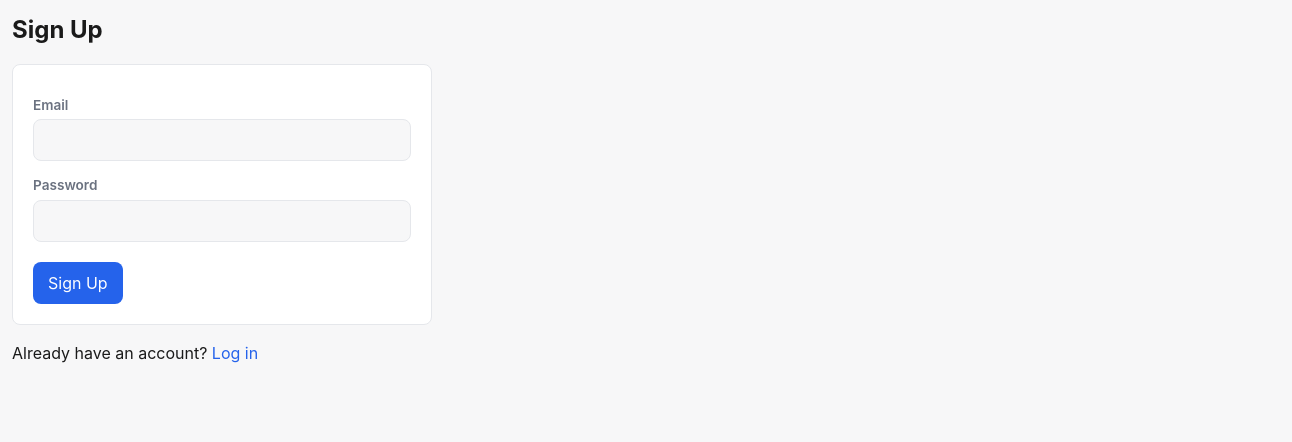
Test: Signup › shows the server error message on a rejected signup
Type "new@example.com" into the field labelled "Email" at (222, 140), box [33,119,411,161]
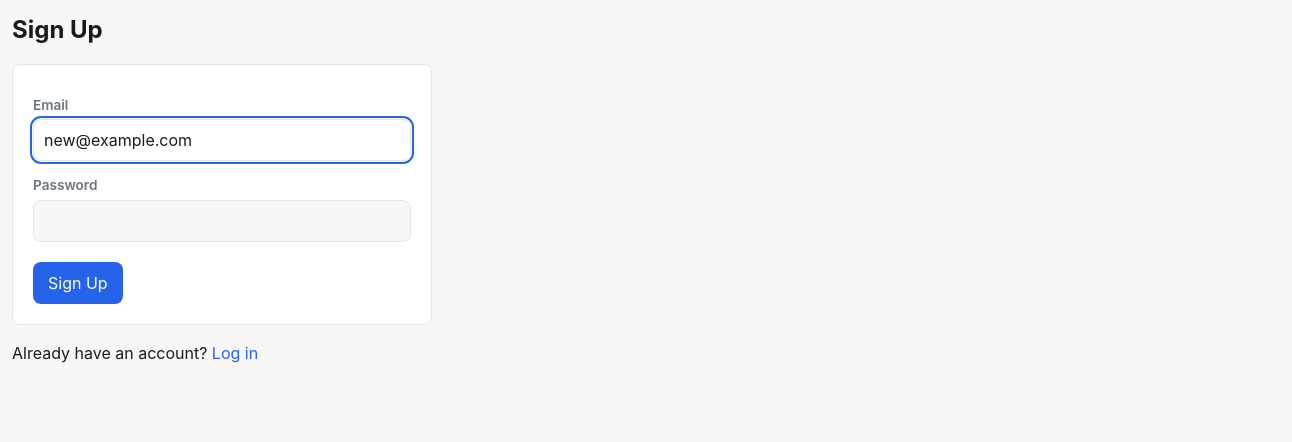
Type "password123" into the password field labelled "Password" at (222, 221), box [33,200,411,242]
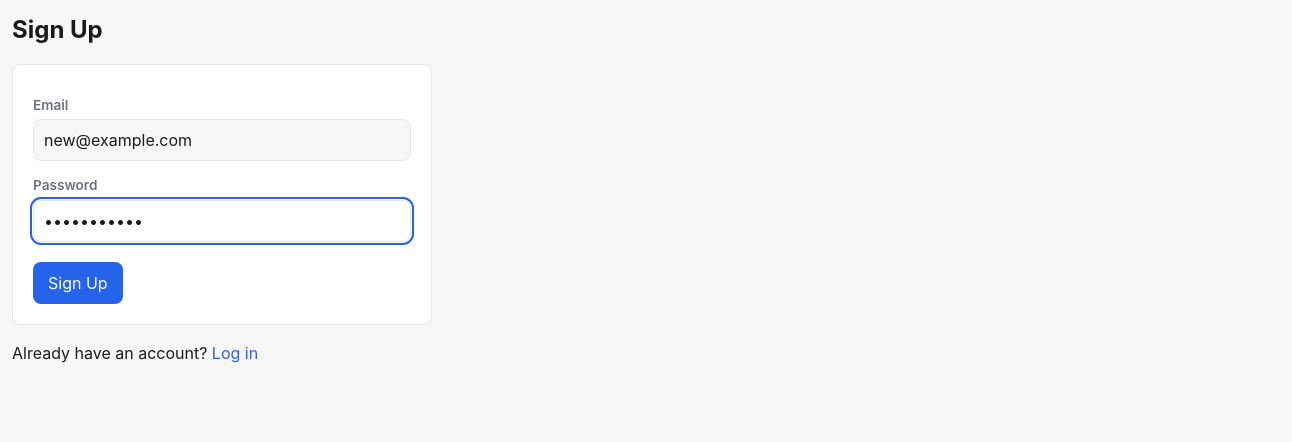
Click the button "Sign Up" at (78, 283), box [33,262,123,304]
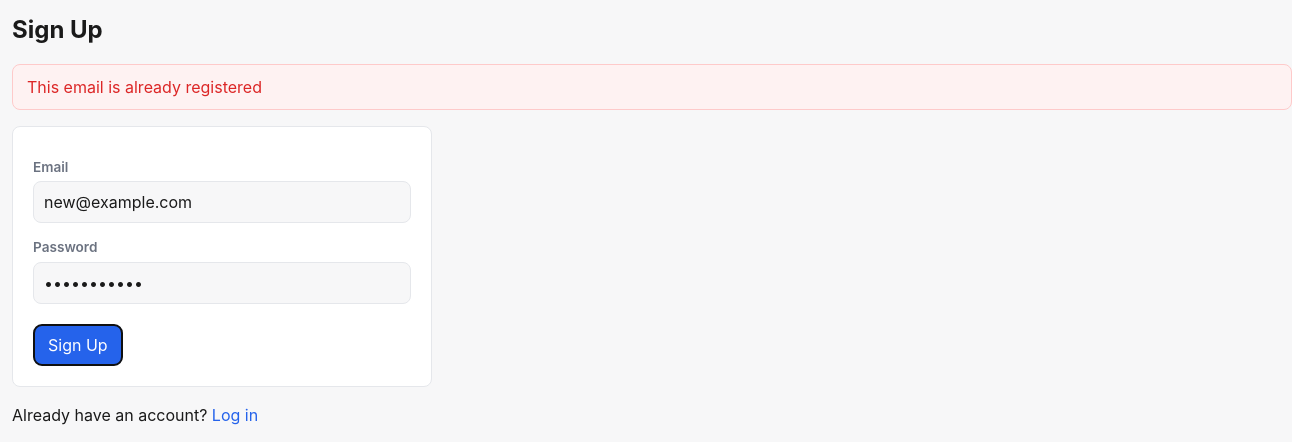
Now the message reads "This email is already registered", box [27,77,262,97]
